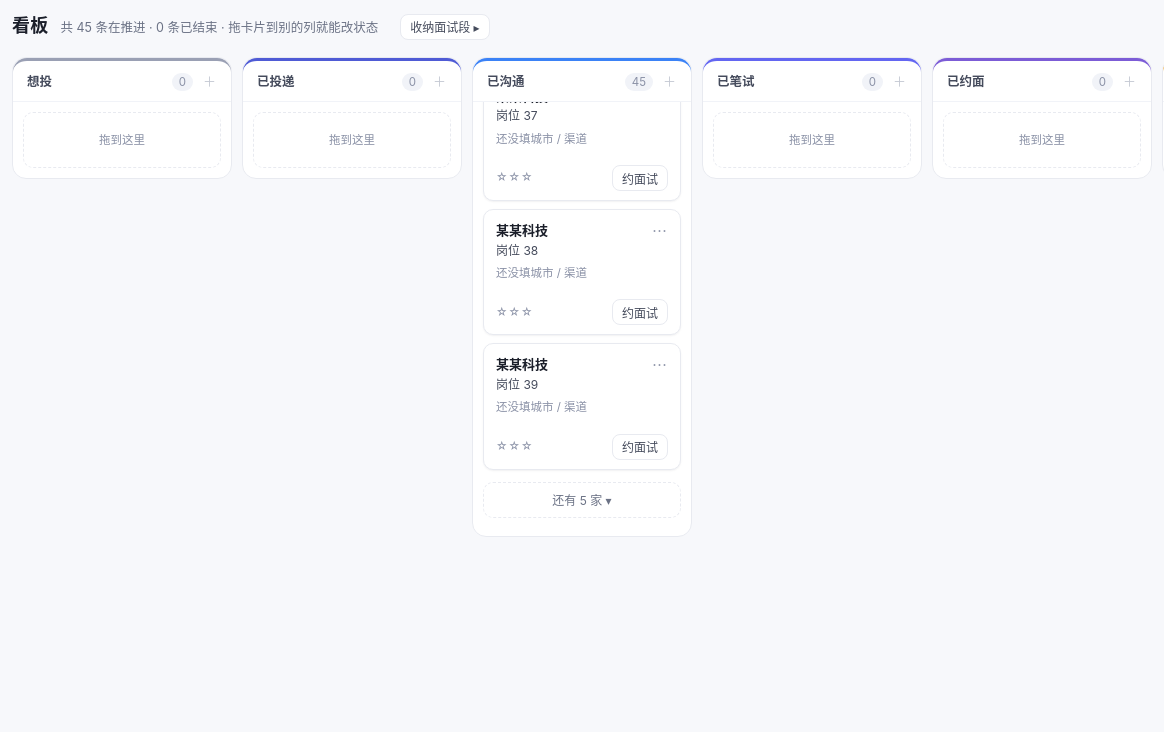
Test: BoardView 窗口化（v0.9.1） › ★★ 点「还有 5 家」→ 渲染 45 张 ∧ 计数仍是 45 ∧ 按钮消失（不会「还有 0 家」）
(page scrolled)
Click the button with test id "board-more-chatting" at (582, 500), box [483,482,681,518]
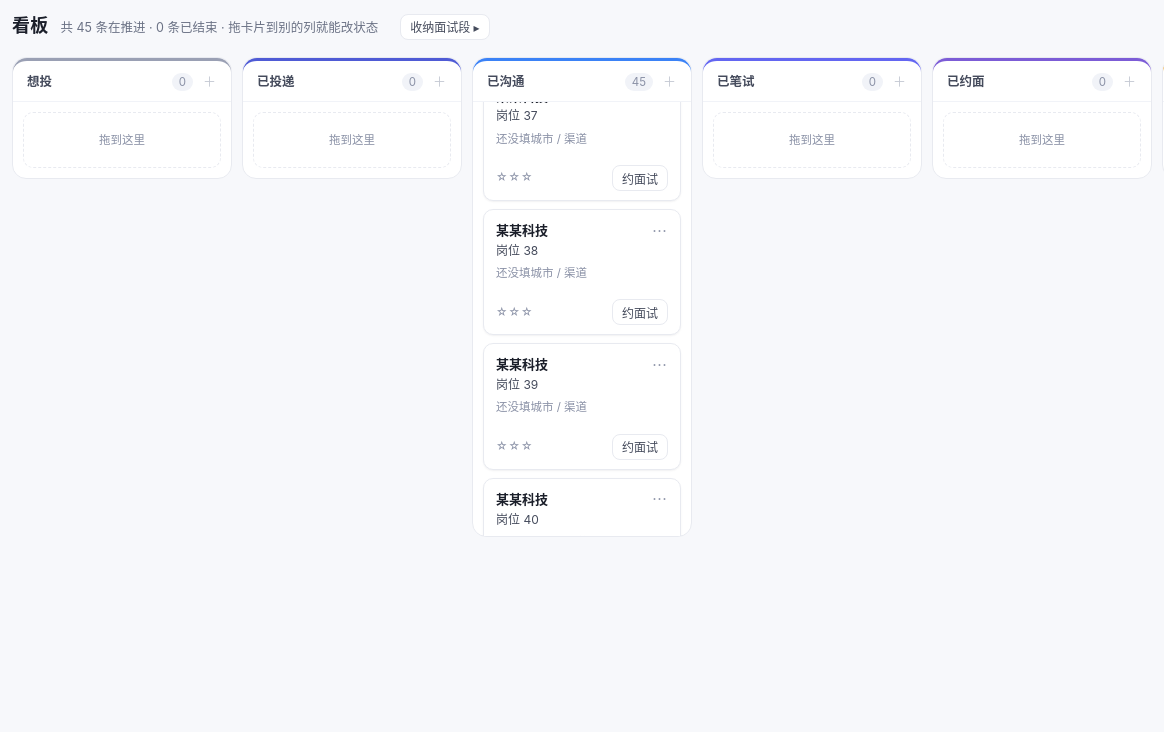
expect the button with test id "board-more-chatting" is gone: met
